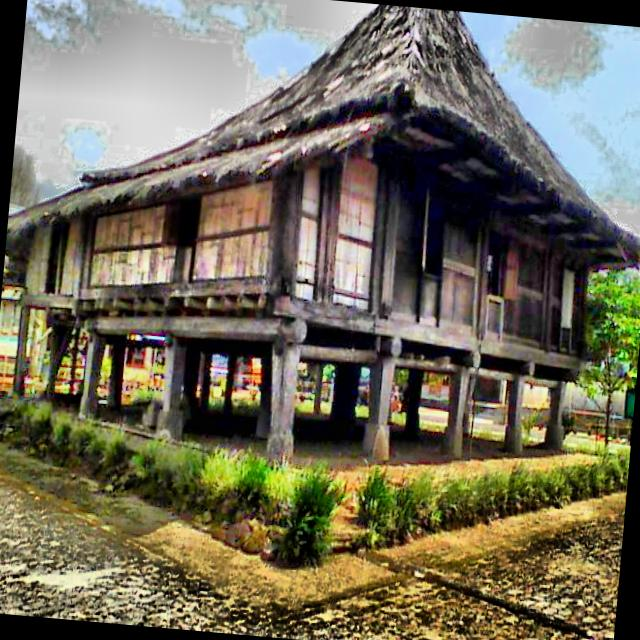column: (253, 343, 299, 466), (362, 355, 394, 459), (157, 336, 184, 438), (443, 365, 468, 458), (80, 334, 101, 416), (504, 374, 525, 454), (330, 363, 361, 416), (107, 335, 125, 417), (545, 381, 566, 447), (405, 370, 423, 428), (223, 355, 235, 408), (313, 362, 324, 414)
roof: (7, 4, 640, 270)
wall: (26, 139, 589, 369)
window: (484, 230, 519, 299), (422, 196, 446, 278), (161, 197, 200, 246)
